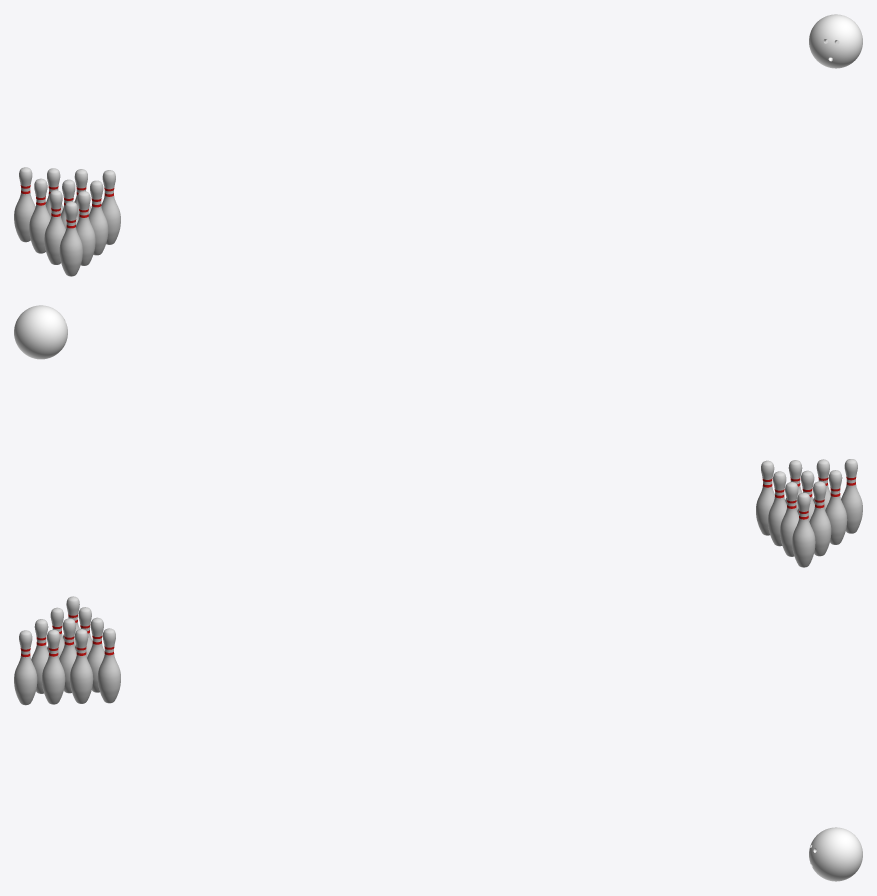
Rendered from bowling.glb.
3 views of the same model, one above another, from view 1: azimuth 30°, elevation 25°; view 2: azimuth 150°, elevation 25°; view 3: azimuth 330°, elevation 25° (orthographic).
Visible parts, largest first — view 1: Sphere, Cylinder.007, Cylinder.010, Cylinder.009, Cylinder.008, Cylinder.003, Cylinder.004, Cylinder.002; view 2: Sphere, Cylinder.010, Cylinder.009, Cylinder.008, Cylinder.007, Cylinder.006, Cylinder.001, Cylinder.002; view 3: Sphere, Cylinder.007, Cylinder.004, Cylinder.002, Cylinder.003, Cylinder.001, Cylinder.005, Cylinder.008.
Part boxes in pixels (box(x1,y1,x2,y2)): Sphere: box(809, 14, 862, 68); Cylinder.007: box(59, 201, 82, 276); Cylinder.010: box(14, 167, 35, 242); Cylinder.009: box(29, 178, 50, 253); Cylinder.008: box(44, 190, 65, 264); Cylinder.003: box(88, 180, 108, 255); Cylinder.004: box(76, 191, 95, 265); Cylinder.002: box(101, 170, 120, 244); Sphere: box(14, 305, 67, 359); Cylinder.010: box(792, 492, 815, 567); Cylinder.009: box(809, 481, 831, 556); Cylinder.008: box(825, 470, 847, 544); Cylinder.007: box(841, 459, 862, 533); Cylinder.006: box(780, 482, 798, 556); Cylinder.001: box(768, 471, 786, 546); Cylinder.002: box(756, 460, 774, 535); Sphere: box(809, 827, 862, 881); Cylinder.007: box(14, 630, 37, 705); Cylinder.004: box(42, 629, 65, 704); Cylinder.002: box(97, 628, 120, 703); Cylinder.003: box(69, 629, 93, 703); Cylinder.001: box(87, 617, 104, 692); Cylinder.005: box(59, 618, 76, 693); Cylinder.008: box(31, 619, 48, 693).
Size of the model in its own units: 9.17 by 0.7762 by 1.13.
